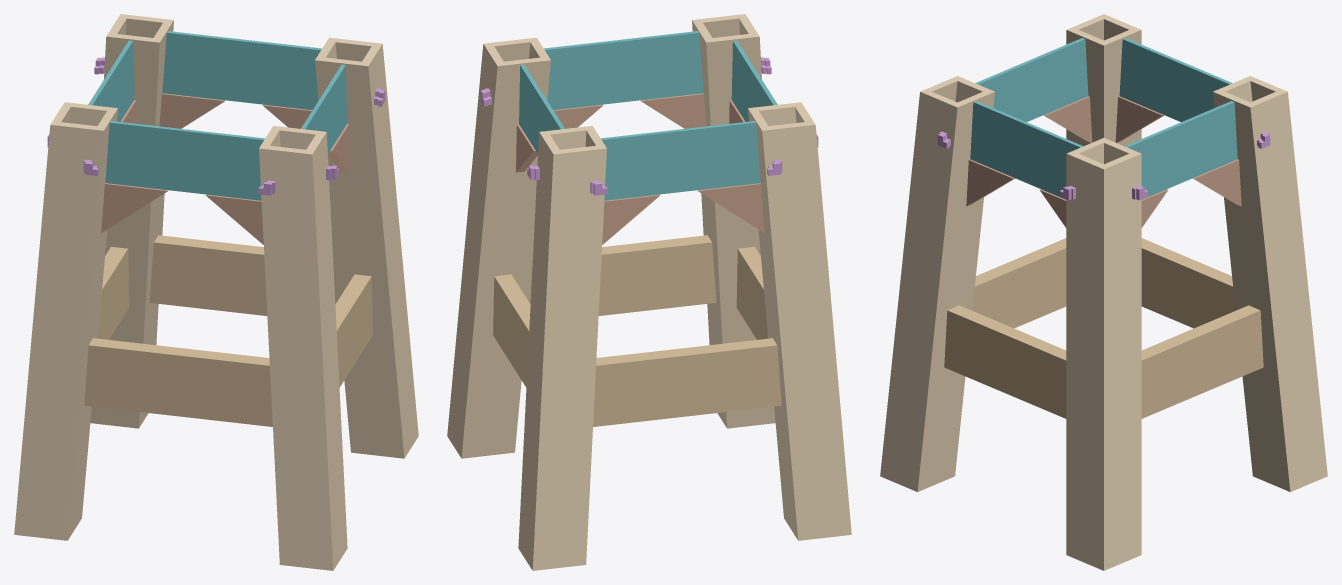
The model's file is R18A_FIX_ASSEMBLED.glb.
3 views of the same model, side by side, from view 1: azimuth 30°, elevation 25°; view 2: azimuth 150°, elevation 25°; view 3: azimuth 270°, elevation 25° (orthographic). The views are drawn at different scales.
Parts seen in each view (by area): view 1: A01_LEG1_NEG_P1, A02_LEG4_NEG_P1, A02_LEG2_POS_P1, C01_SIDE4_1_P1, B01_SIDE4_1_P1, B01_SIDE2_1_P1, C01_SIDE2_2_P2, A01_LEG2_NEG_P1, A01_LEG3_POS_P1, A02_LEG1_NEG_P1, A01_LEG4_POS_P1, C01_SIDE1_1_P1 (+24 smaller); view 2: A01_LEG4_NEG_P1, A02_LEG3_NEG_P1, A01_LEG2_POS_P1, C01_SIDE3_1_P1, B01_SIDE3_1_P1, B01_SIDE1_1_P1, C01_SIDE1_2_P2, A01_LEG3_NEG_P1, A02_LEG2_NEG_P1, A02_LEG1_POS_P1, A02_LEG4_POS_P1, A01_LEG1_POS_P1 (+24 smaller); view 3: A01_LEG2_NEG_P1, A01_LEG3_NEG_P1, A02_LEG2_NEG_P1, A02_LEG1_NEG_P1, A01_LEG1_POS_P1, A02_LEG3_POS_P1, C01_SIDE1_1_P1, C01_SIDE2_1_P1, B01_SIDE1_1_P1, B01_SIDE2_1_P1, B01_SIDE3_1_P1, B01_SIDE4_1_P1 (+25 smaller).
Boxes of the visible parts, left/top/right/bottom form: A01_LEG1_NEG_P1: left=259, top=146, right=334, bottom=570; A02_LEG4_NEG_P1: left=21, top=124, right=97, bottom=539; A02_LEG2_POS_P1: left=323, top=59, right=398, bottom=457; C01_SIDE4_1_P1: left=84, top=343, right=272, bottom=426; B01_SIDE4_1_P1: left=105, top=121, right=264, bottom=200; B01_SIDE2_1_P1: left=162, top=31, right=321, bottom=109; C01_SIDE2_2_P2: left=149, top=240, right=336, bottom=315; A01_LEG2_NEG_P1: left=364, top=43, right=418, bottom=458; A01_LEG3_POS_P1: left=90, top=34, right=160, bottom=428; A02_LEG1_NEG_P1: left=311, top=135, right=345, bottom=566; A01_LEG4_POS_P1: left=63, top=107, right=117, bottom=540; C01_SIDE1_1_P1: left=336, top=275, right=372, bottom=386; A01_LEG4_NEG_P1: left=761, top=123, right=851, bottom=540; A02_LEG3_NEG_P1: left=535, top=147, right=602, bottom=569; A01_LEG2_POS_P1: left=460, top=58, right=550, bottom=458; C01_SIDE3_1_P1: left=593, top=343, right=781, bottom=426; B01_SIDE3_1_P1: left=601, top=121, right=760, bottom=200; B01_SIDE1_1_P1: left=544, top=31, right=703, bottom=109; C01_SIDE1_2_P2: left=529, top=240, right=716, bottom=315; A01_LEG3_NEG_P1: left=518, top=131, right=557, bottom=570; A02_LEG2_NEG_P1: left=449, top=47, right=499, bottom=454; A02_LEG1_POS_P1: left=709, top=35, right=771, bottom=427; A02_LEG4_POS_P1: left=750, top=111, right=795, bottom=536; A01_LEG1_POS_P1: left=692, top=19, right=731, bottom=428; A01_LEG2_NEG_P1: left=1066, top=152, right=1106, bottom=570; A01_LEG3_NEG_P1: left=1247, top=90, right=1327, bottom=491; A02_LEG2_NEG_P1: left=1101, top=155, right=1141, bottom=568; A02_LEG1_NEG_P1: left=886, top=93, right=953, bottom=489; A01_LEG1_POS_P1: left=914, top=90, right=994, bottom=491; A02_LEG3_POS_P1: left=1219, top=93, right=1285, bottom=489; C01_SIDE1_1_P1: left=944, top=309, right=1066, bottom=418; C01_SIDE2_1_P1: left=1141, top=309, right=1263, bottom=418; B01_SIDE1_1_P1: left=970, top=101, right=1083, bottom=199; B01_SIDE2_1_P1: left=1124, top=101, right=1237, bottom=199; B01_SIDE3_1_P1: left=1119, top=38, right=1232, bottom=121; B01_SIDE4_1_P1: left=975, top=38, right=1088, bottom=121.
Size of the model in its own units: 0.4221 by 0.4 by 0.4221.
